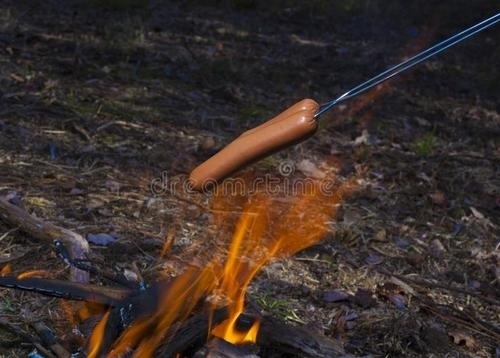fire: (107, 147, 364, 347)
